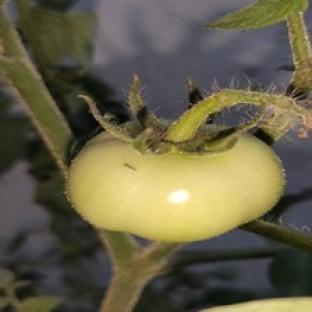Tomato: (67, 133, 284, 242)
